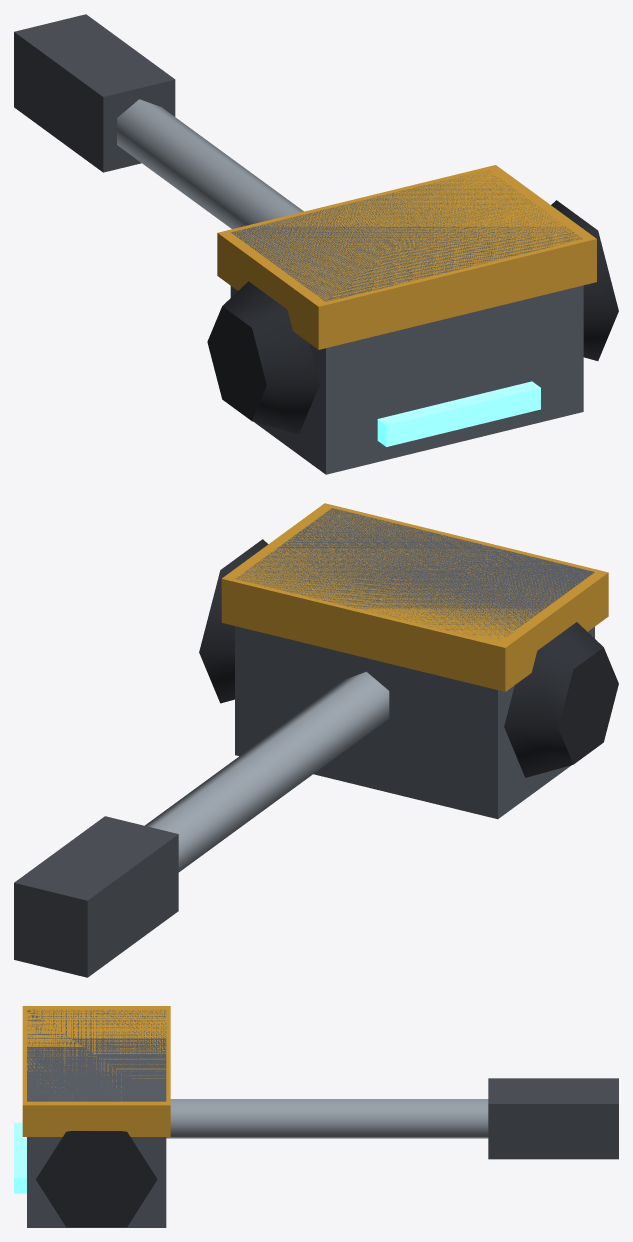
Rendered from wpn_hammer.glb.
3 renders of one model, top to bottom at view 1: azimuth 30°, elevation 25°; view 2: azimuth 150°, elevation 25°; view 3: azimuth 270°, elevation 25°, orthographic. The views are drawn at different scales.
Parts seen in each view (by area): view 1: head, weapon; view 2: head, weapon; view 3: head, weapon.
Part boxes in pixels (x1,y1,x2,y2): head: (207, 165, 618, 474); weapon: (14, 14, 303, 228); head: (199, 503, 618, 819); weapon: (14, 671, 389, 977); head: (14, 1006, 170, 1227); weapon: (166, 1078, 618, 1159).
Size of the model in its own units: 0.66 by 0.32 by 1.39.
